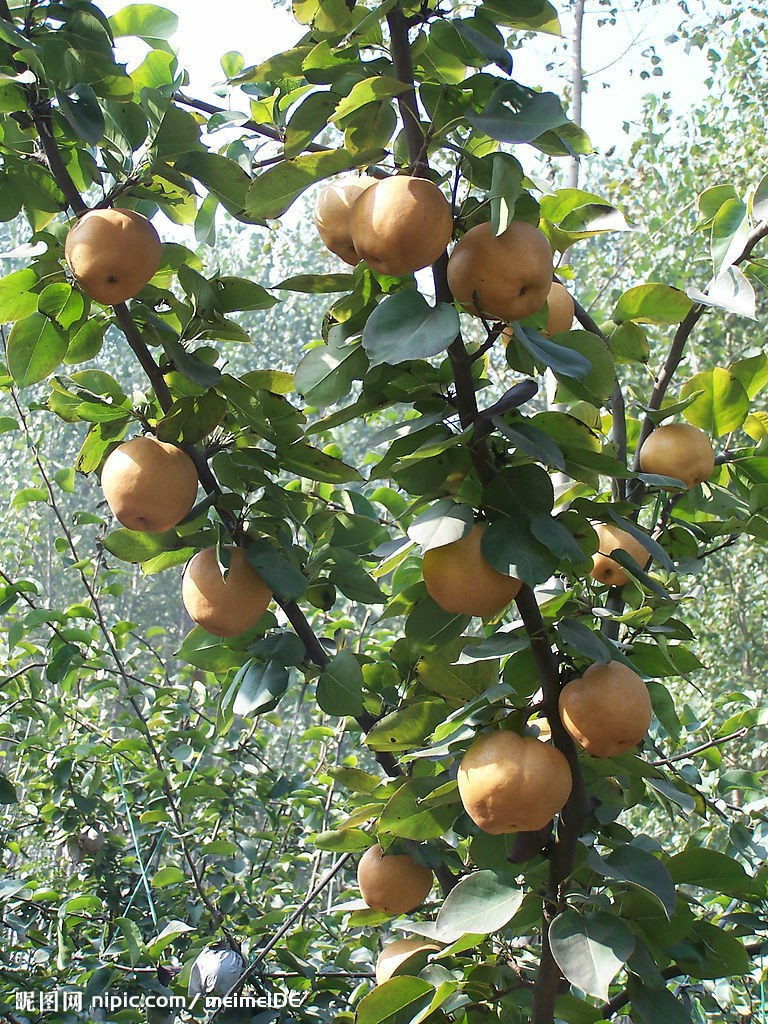pear: (454, 729, 573, 837), (445, 214, 554, 324), (420, 515, 518, 620), (351, 174, 453, 274), (99, 436, 199, 534), (562, 656, 651, 760), (64, 212, 159, 302), (182, 541, 271, 634), (315, 174, 385, 270), (493, 276, 578, 350), (356, 839, 434, 917), (636, 422, 716, 490), (579, 519, 649, 590)
